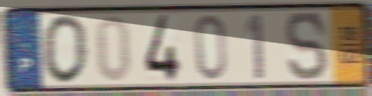0: (93, 13, 134, 84), (191, 13, 228, 82)
1: (244, 12, 266, 82)
4: (143, 12, 184, 84)
O: (40, 13, 90, 86)
S: (283, 10, 331, 84)
